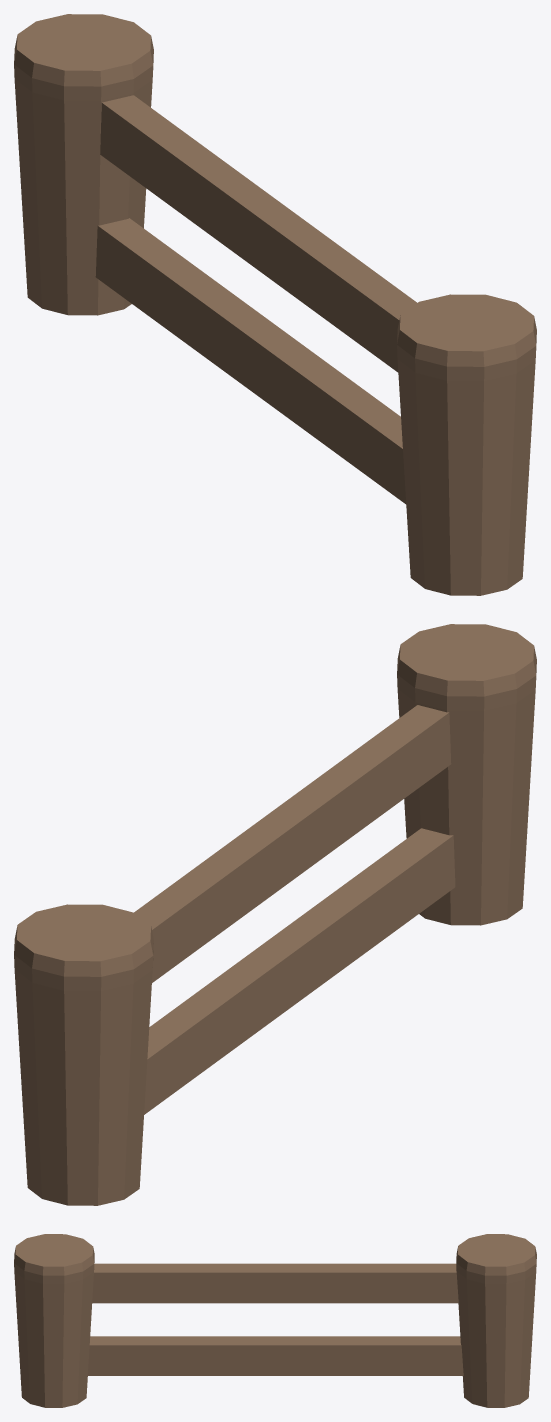
Rendered from Wood_Fence_Whole.fbx.
The picture shows the model from 3 angles, top to bottom: view 1: azimuth 30°, elevation 25°; view 2: azimuth 150°, elevation 25°; view 3: azimuth 270°, elevation 25°; orthographic projection. The views are drawn at different scales.
Visible parts, largest first — view 1: Wood_Fence_Whole; view 2: Wood_Fence_Whole; view 3: Wood_Fence_Whole.
Part boxes in pixels (bbox=[...]): Wood_Fence_Whole: bbox=[14, 14, 536, 595]; Wood_Fence_Whole: bbox=[14, 624, 536, 1205]; Wood_Fence_Whole: bbox=[14, 1234, 536, 1407].
Size of the model in its own units: 0.4897 by 0.9619 by 3.17.
